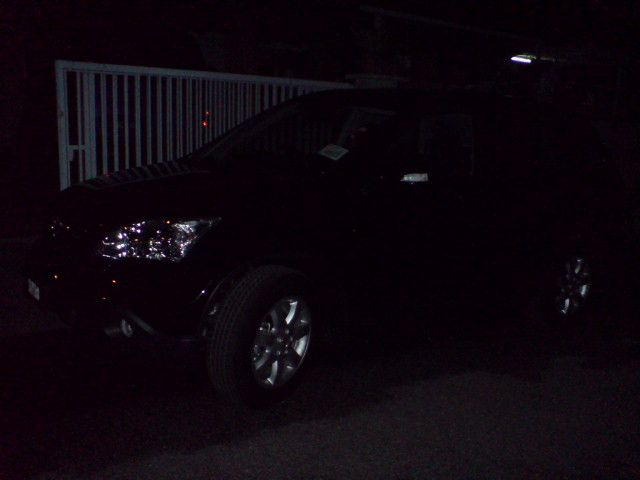car: (17, 75, 626, 419)
